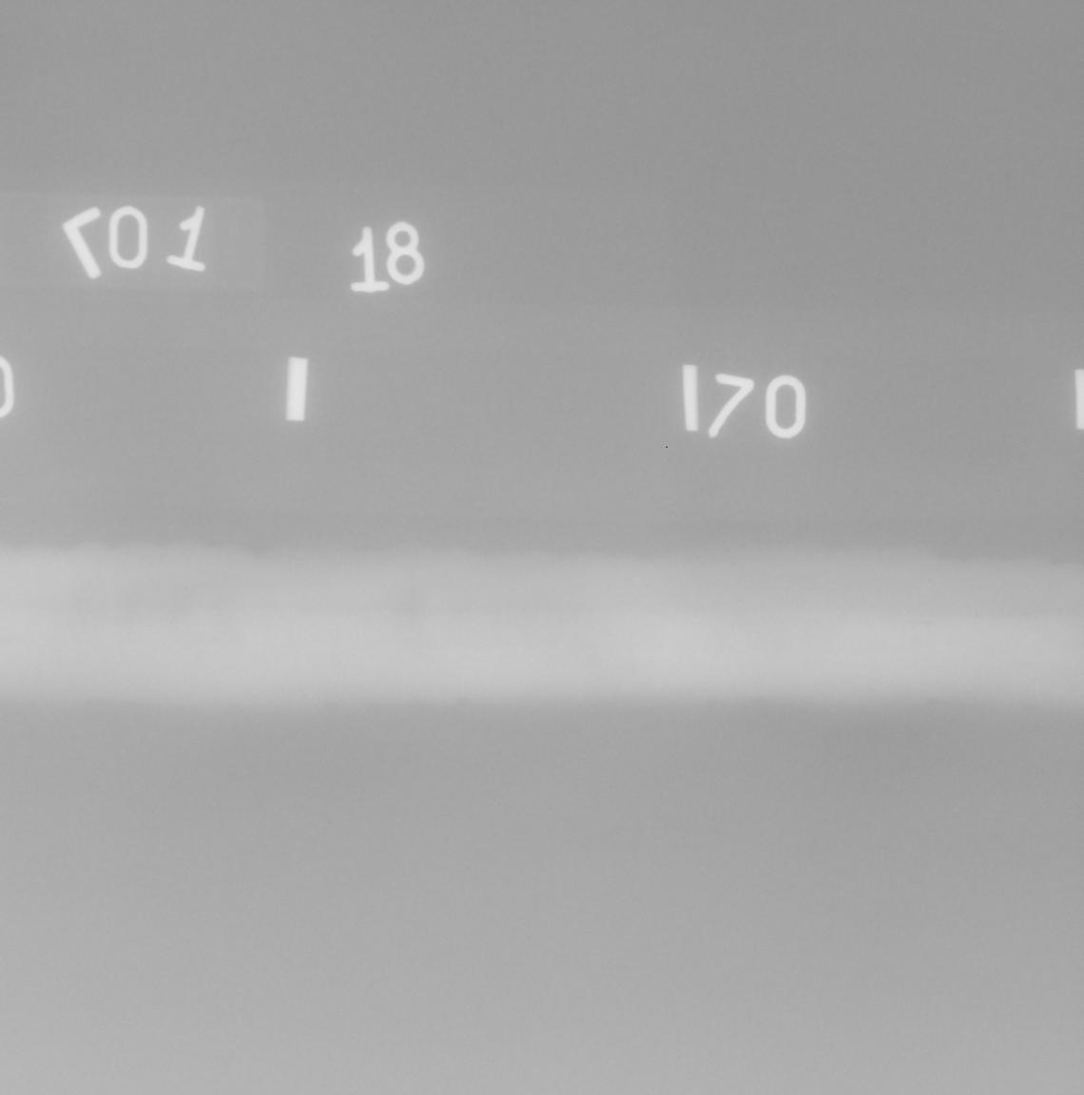Inclusion: (908, 620, 932, 626)
Pore/Porosity: (26, 628, 30, 632)
